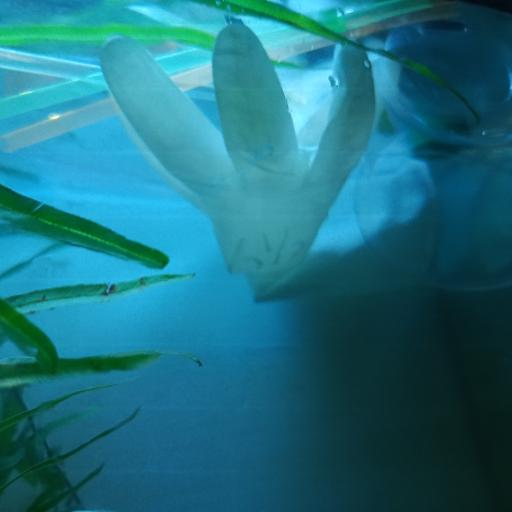glove: (98, 24, 446, 304)
plastic_cup: (357, 17, 512, 290)
plastic_straw: (1, 0, 436, 150), (0, 0, 429, 113), (3, 48, 216, 111)
